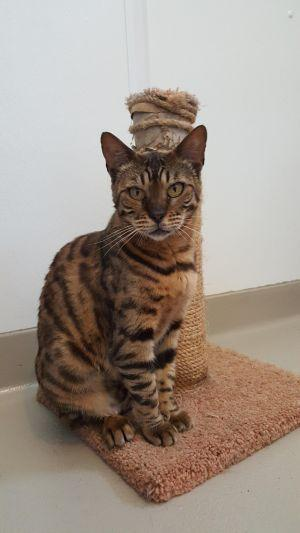bengal: (96, 126, 221, 247)
